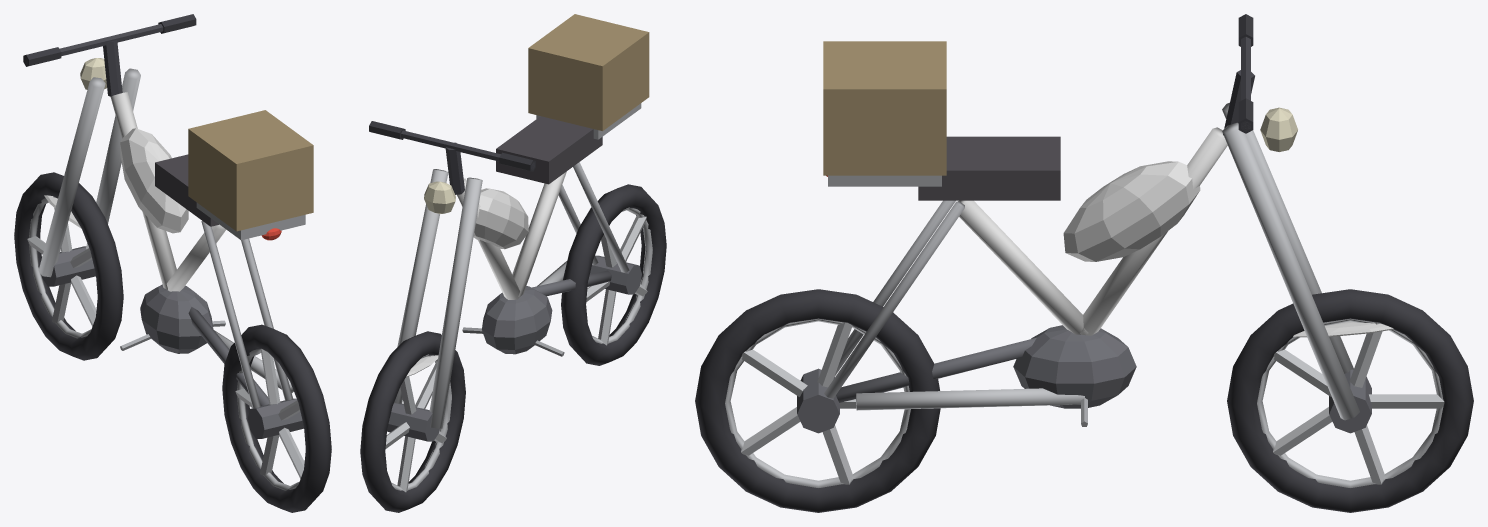
Rendered from bike_moped.glb.
3 renders of one model, left to right at view 1: azimuth 30°, elevation 25°; view 2: azimuth 150°, elevation 25°; view 3: azimuth 270°, elevation 25°, orthographic. The views are drawn at different scales.
Parts seen in each view (by area): view 1: chassis, wheel_r, wheel_f, front; view 2: chassis, wheel_r, wheel_f, front; view 3: chassis, wheel_f, wheel_r, front.
Boxes of the visible parts, x1,y1,x2,y2 form: chassis: (110,92,313,408); wheel_r: (222,324,331,512); wheel_f: (14,172,123,360); front: (23,14,196,277); chassis: (457,14,649,356); wheel_r: (561,184,666,365); wheel_f: (360,331,465,512); front: (369,121,535,428); chassis: (823,41,1227,426); wheel_f: (1227,289,1473,512); wheel_r: (695,289,940,512); front: (1222,14,1393,420).
Bounding box in the file's own units: 0.52 × 1.04 × 1.64.
